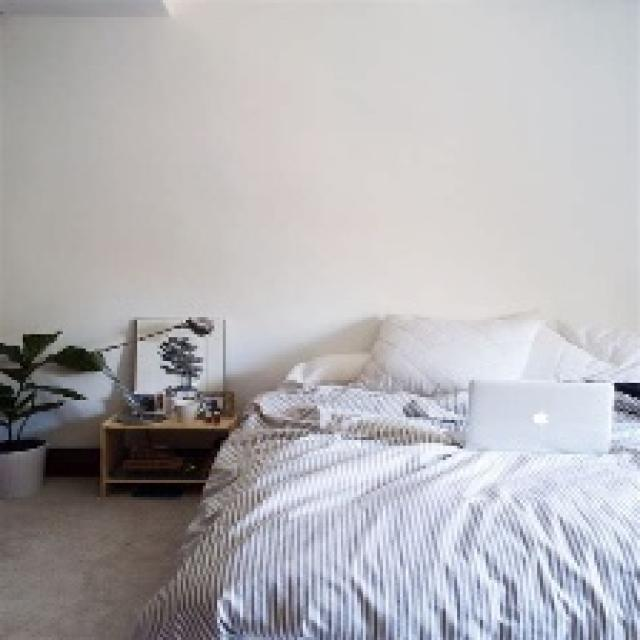Bed: (120, 317, 637, 637)
